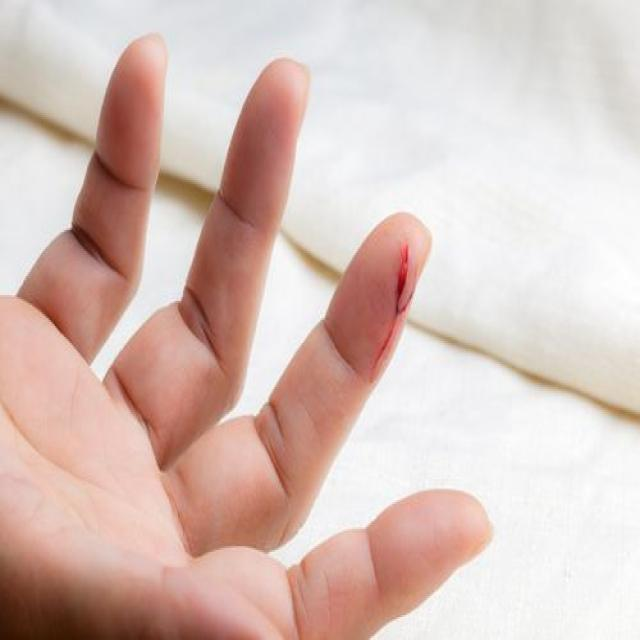Cut: (387, 229, 412, 338)
